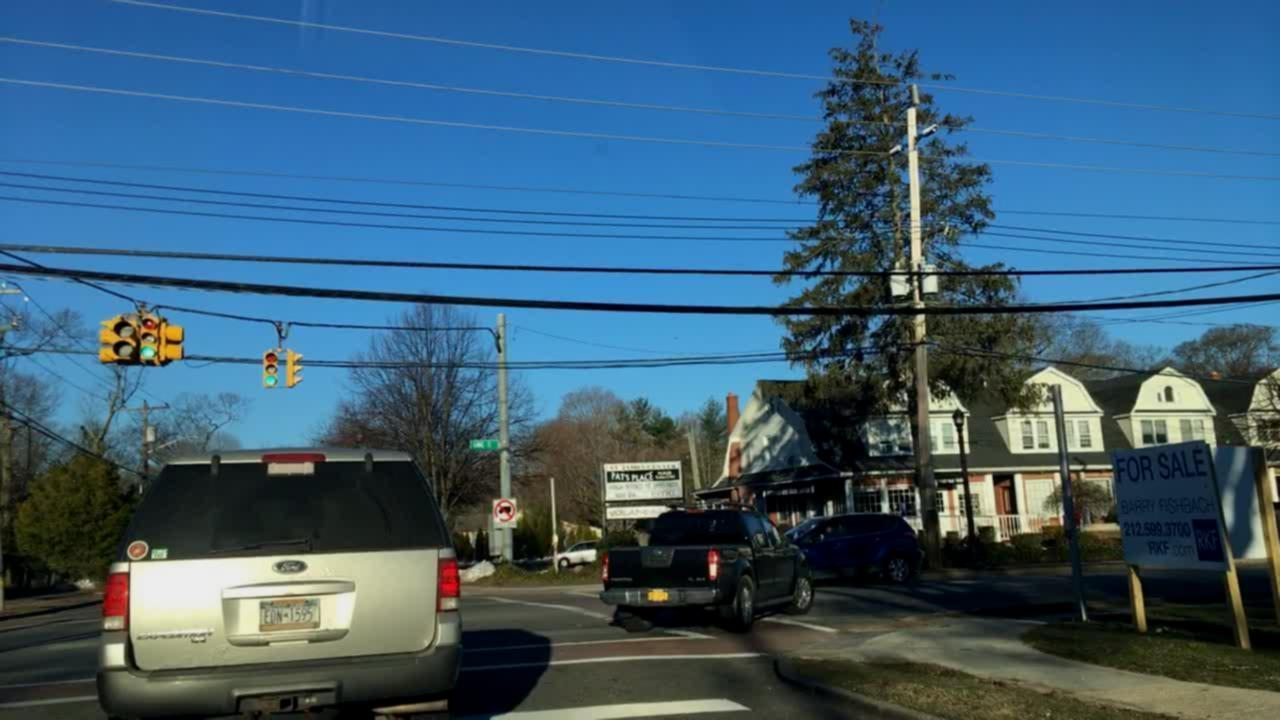ford: (269, 557, 309, 576)
